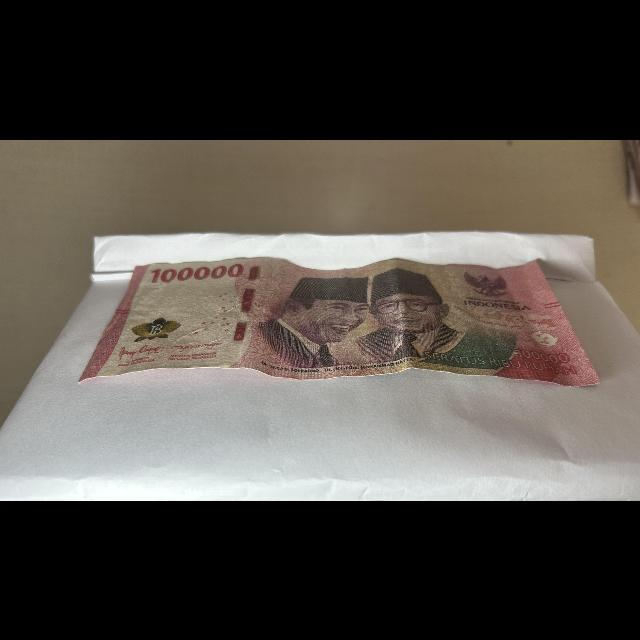Palsu-100k: (72, 254, 608, 389)
Tinta-Palsu-100k: (130, 315, 182, 342)
